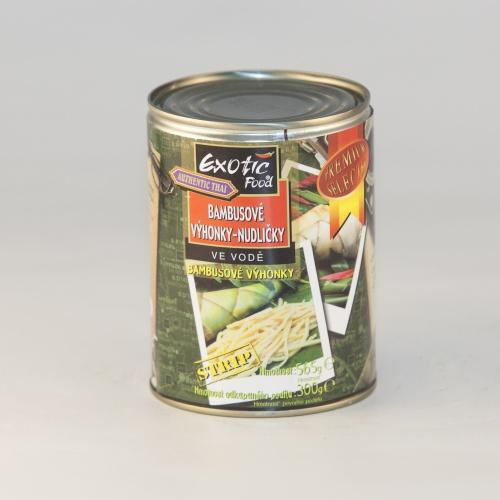metal: (148, 71, 376, 417)
